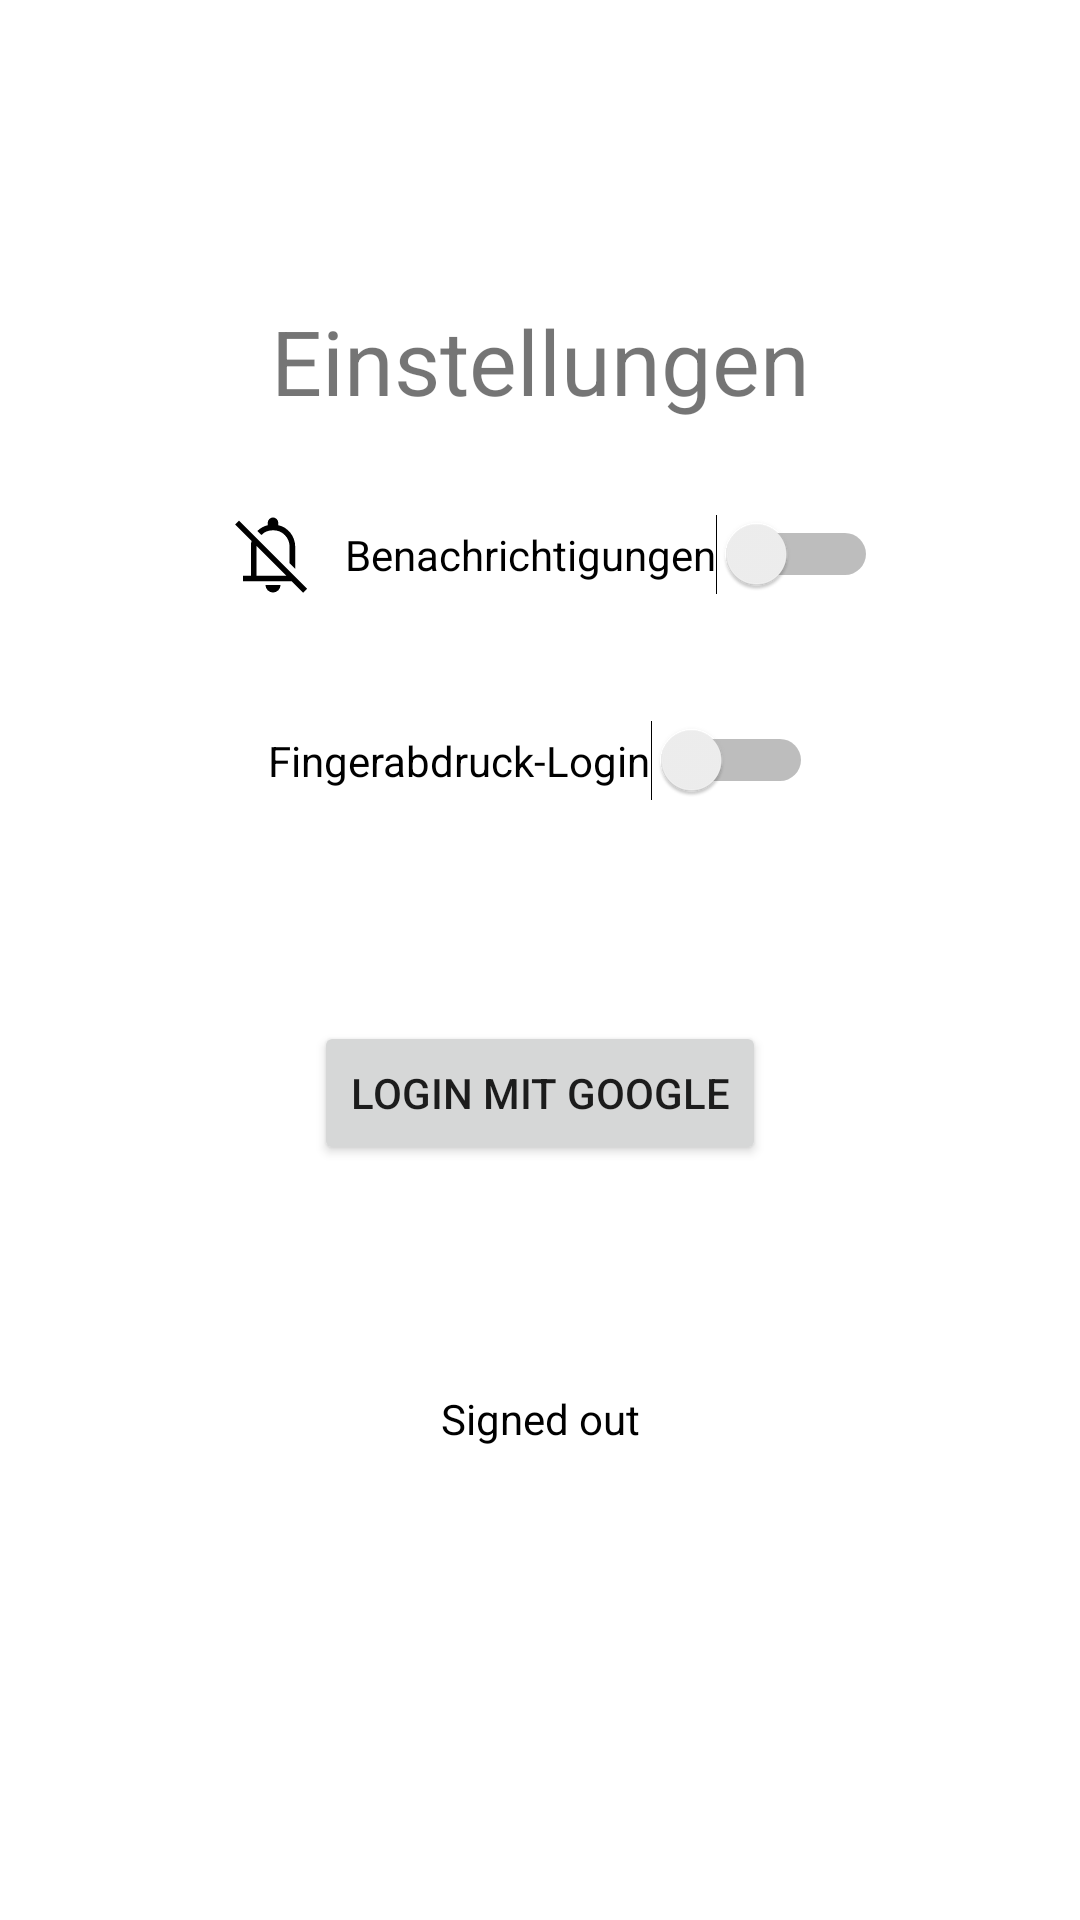

Where icons sit on this 1080 × 1920 app screen, as (x1, y1, x2, y2):
Bild einer Benachrichtigungsglocke: (235, 517, 307, 593)
